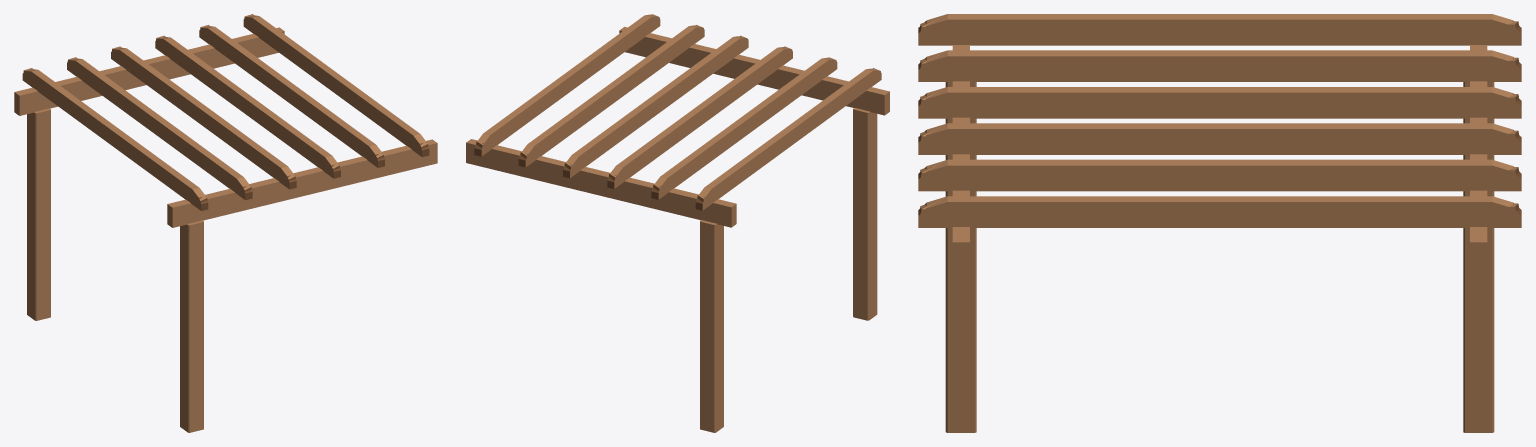
The model's file is FMS_Garden_Pergola_Bay.fbx.
3 views of the same model, side by side, from view 1: azimuth 30°, elevation 25°; view 2: azimuth 150°, elevation 25°; view 3: azimuth 270°, elevation 25° (orthographic). The views are drawn at different scales.
Parts seen in each view (by area): view 1: FMS_Garden_Pergola_Bay_Rafters, FMS_Garden_Pergola_Bay_Rafters_Low1, FMS_Garden_Pergola_Bay_Posts, FMS_Garden_Pergola_Bay_Beams; view 2: FMS_Garden_Pergola_Bay_Rafters, FMS_Garden_Pergola_Bay_Rafters_Low1, FMS_Garden_Pergola_Bay_Posts, FMS_Garden_Pergola_Bay_Beams; view 3: FMS_Garden_Pergola_Bay_Rafters, FMS_Garden_Pergola_Bay_Rafters_Low1, FMS_Garden_Pergola_Bay_Posts, FMS_Garden_Pergola_Bay_Beams.
Part boxes in pixels (box(x1,y1,x2,y2)): FMS_Garden_Pergola_Bay_Rafters: box(22, 15, 429, 210); FMS_Garden_Pergola_Bay_Rafters_Low1: box(23, 14, 428, 209); FMS_Garden_Pergola_Bay_Posts: box(27, 108, 203, 432); FMS_Garden_Pergola_Bay_Beams: box(14, 27, 437, 227); FMS_Garden_Pergola_Bay_Rafters: box(474, 14, 881, 210); FMS_Garden_Pergola_Bay_Rafters_Low1: box(476, 14, 880, 209); FMS_Garden_Pergola_Bay_Posts: box(700, 108, 877, 432); FMS_Garden_Pergola_Bay_Beams: box(466, 26, 889, 227); FMS_Garden_Pergola_Bay_Rafters: box(918, 14, 1521, 227); FMS_Garden_Pergola_Bay_Rafters_Low1: box(918, 16, 1520, 227); FMS_Garden_Pergola_Bay_Posts: box(945, 82, 1494, 432); FMS_Garden_Pergola_Bay_Beams: box(952, 45, 1487, 276).
Size of the model in its own units: 3 by 2.62 by 3.5.
